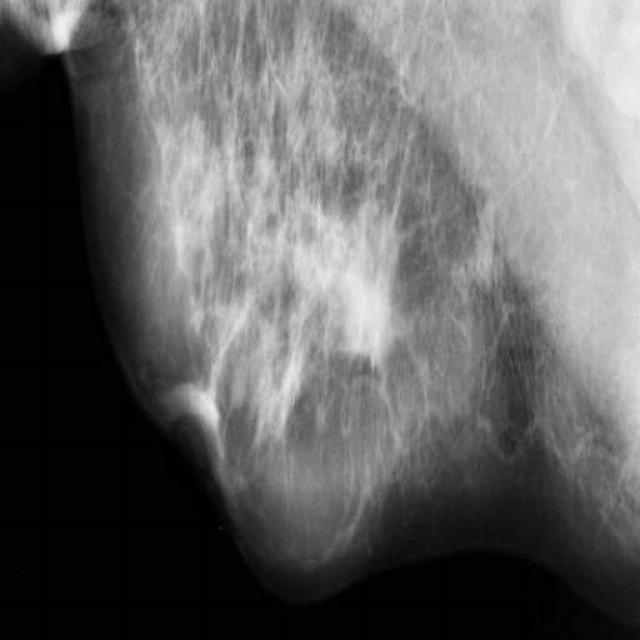cancer: (352, 310, 392, 400)
